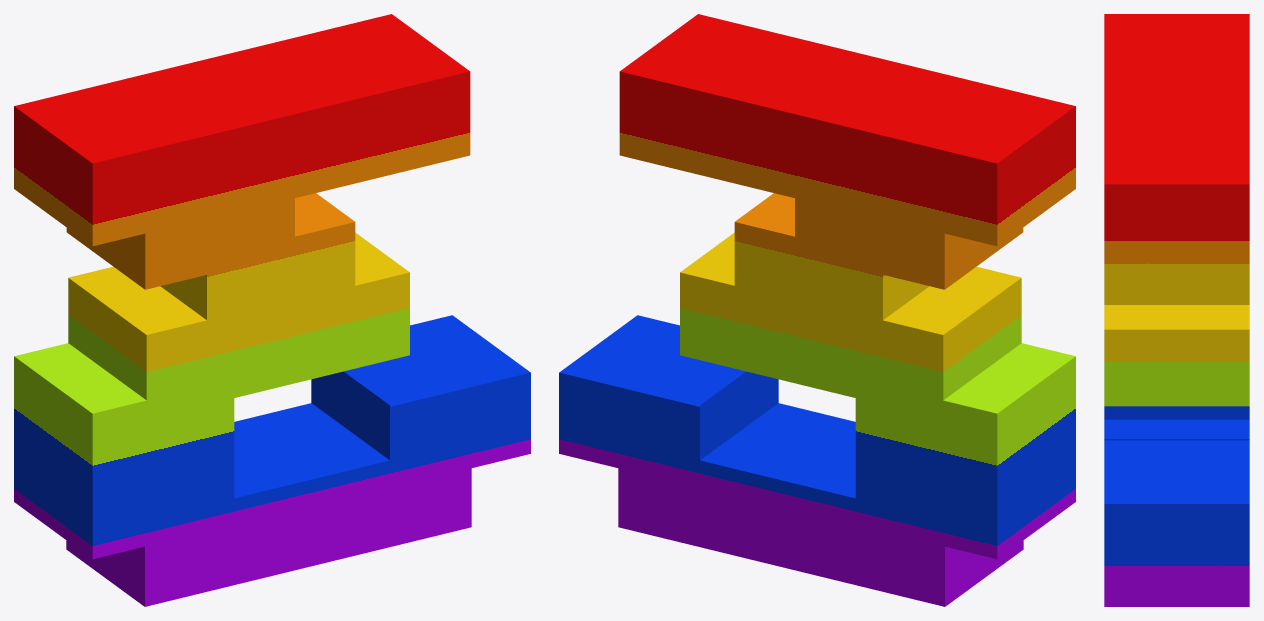
Rendered from Number_03.fbx.
3 renders of one model, left to right at view 1: azimuth 30°, elevation 25°; view 2: azimuth 150°, elevation 25°; view 3: azimuth 270°, elevation 25°, orthographic. The views are drawn at different scales.
Parts seen in each view (by area): view 1: Number_03; view 2: Number_03; view 3: Number_03.
Boxes of the visible parts, x1=… form: Number_03: x1=14, y1=14, x2=530, y2=606; Number_03: x1=559, y1=14, x2=1075, y2=606; Number_03: x1=1104, y1=14, x2=1249, y2=606.
Bounding box in the file's own units: 78.39 × 77.97 × 24.3.
